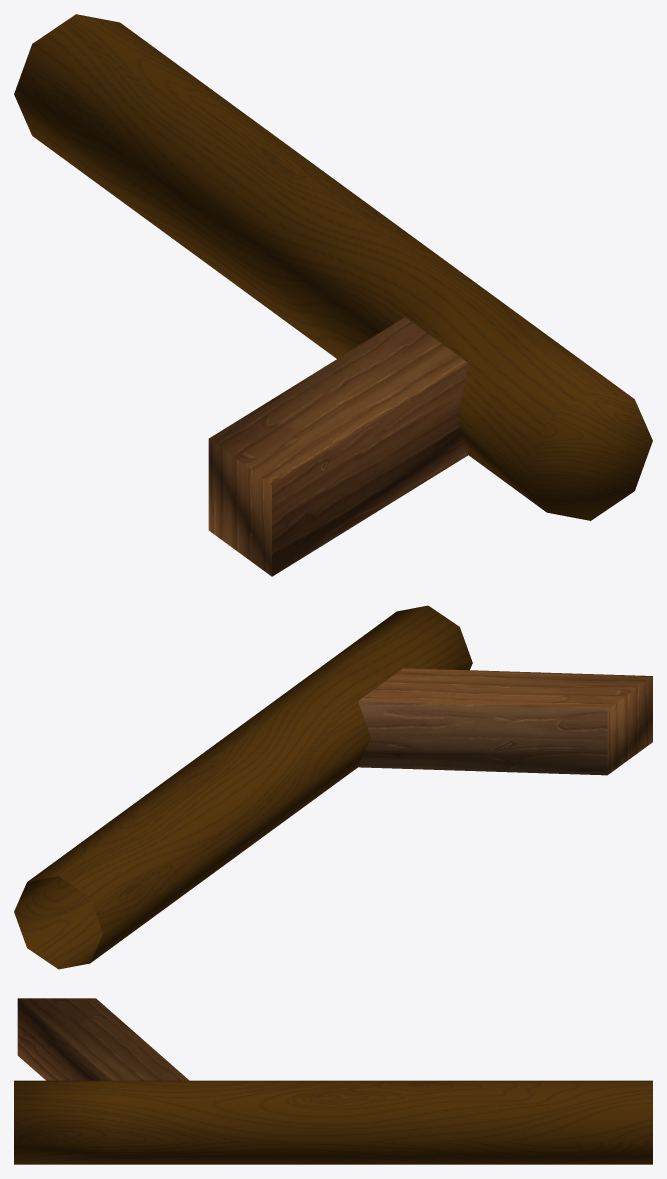
The model's file is Pilar.fbx.
The picture shows the model from 3 angles, top to bottom: view 1: azimuth 30°, elevation 25°; view 2: azimuth 150°, elevation 25°; view 3: azimuth 270°, elevation 25°; orthographic projection. The views are drawn at different scales.
Visible parts, largest first — view 1: Pillar; view 2: Pillar; view 3: Pillar.
Boxes of the visible parts, box(x1,y1,x2,y2) form: Pillar: box(14, 14, 652, 576); Pillar: box(14, 605, 652, 969); Pillar: box(14, 998, 652, 1164).
Size of the model in its own units: 57.27 by 18.83 by 135.
1 material, 1 textured.
